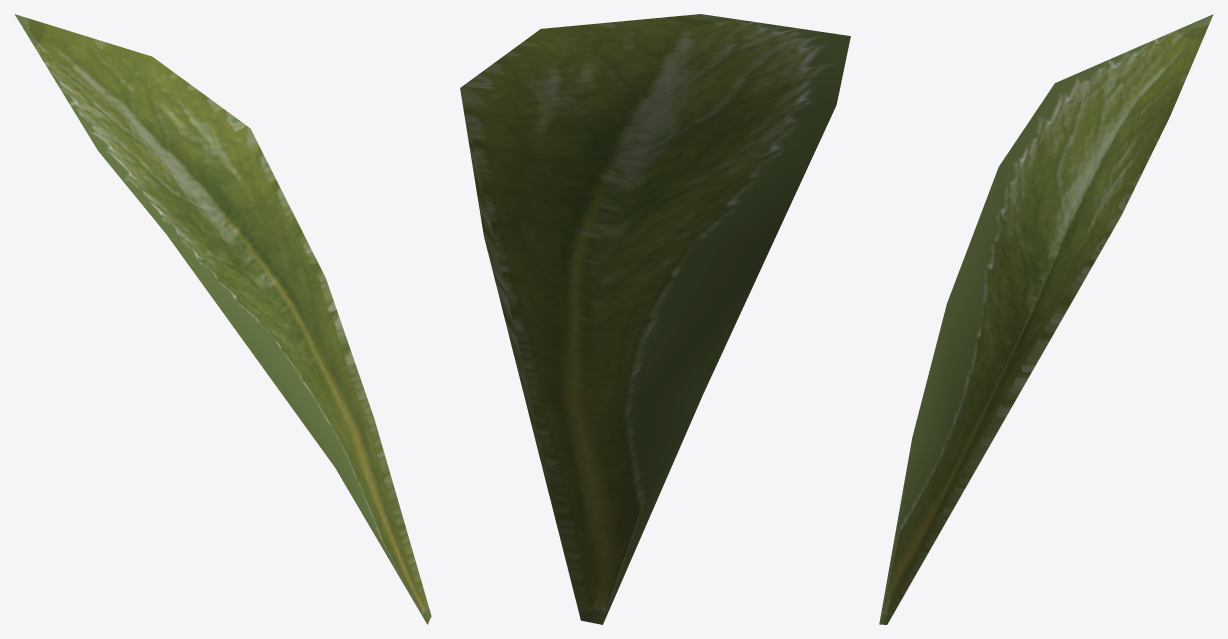
File: chamomile_leftleaf.glb
3 views of the same model, side by side, from view 1: azimuth 30°, elevation 25°; view 2: azimuth 150°, elevation 25°; view 3: azimuth 270°, elevation 25° (orthographic). The views are drawn at different scales.
Visible parts, largest first — view 1: Chamomile_Bush3; view 2: Chamomile_Bush3; view 3: Chamomile_Bush3.
Part boxes in pixels (box(x1,y1,x2,y2)): Chamomile_Bush3: box(14, 14, 431, 624); Chamomile_Bush3: box(460, 14, 850, 624); Chamomile_Bush3: box(879, 14, 1213, 624).
Size of the model in its own units: 0.022 by 0.0463 by 0.0279.
1 material, 1 textured.
